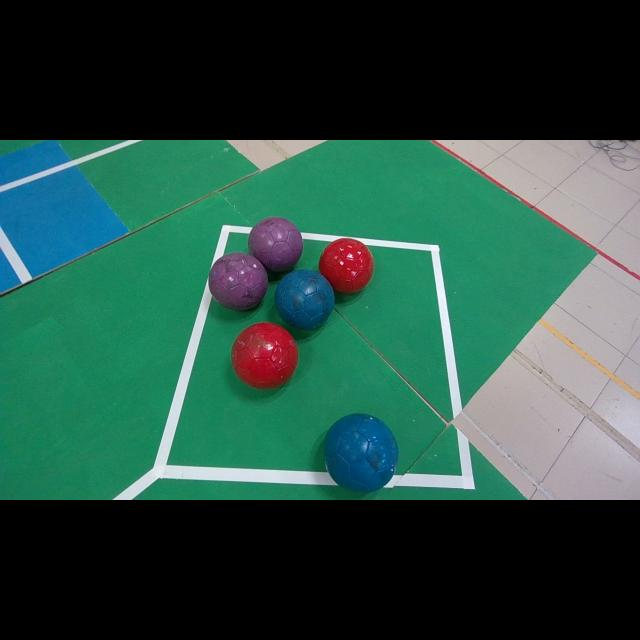B: (324, 414, 398, 492), (275, 270, 335, 329)
P: (209, 252, 269, 311), (248, 216, 302, 272)
R: (231, 322, 299, 389), (319, 239, 374, 294)
